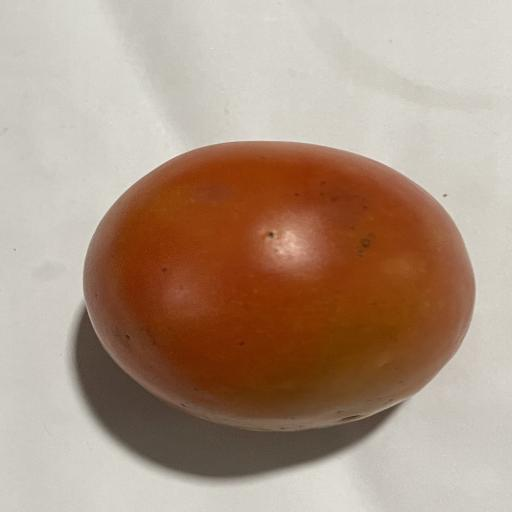ripe: (84, 142, 475, 431)
